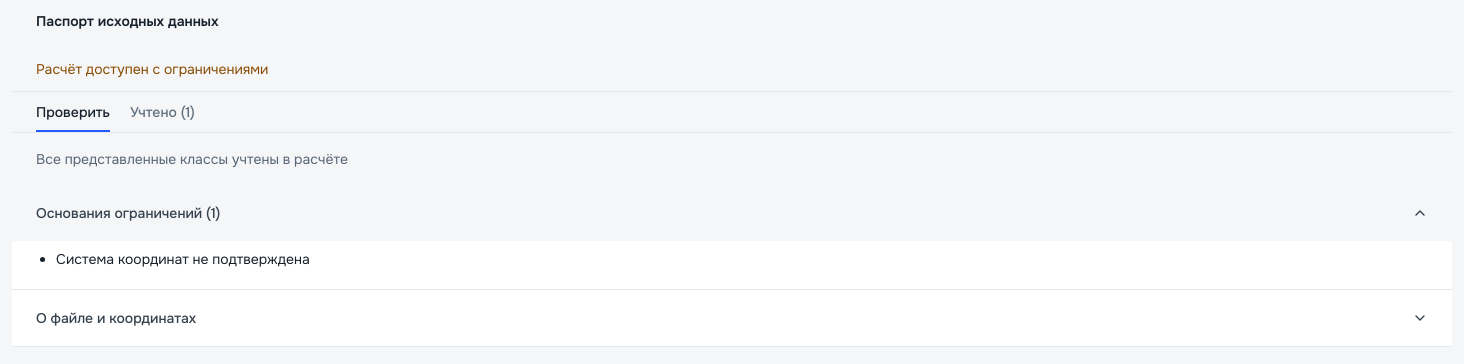
DataPassportPanel › shows source restrictions even when every reported class is included
Expected: the list item "Система координат не подтверждена" is shown, [56,250,310,268]
Click the tab "Учтено (1)": click(162, 112) [130,92,195,132]
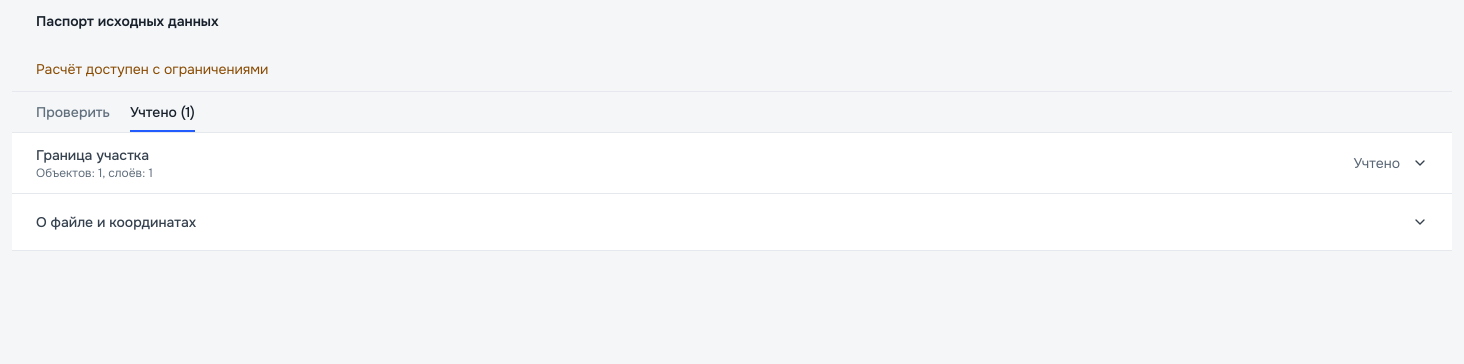
Now the button "Граница участка Объектов: 1, слоёв: 1 Учтено" is shown, box [12,133,1452,193]
